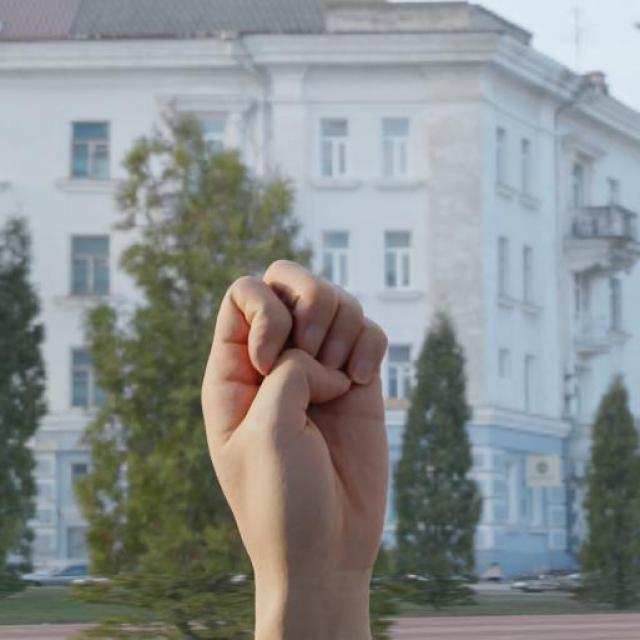E: (195, 255, 395, 580)
